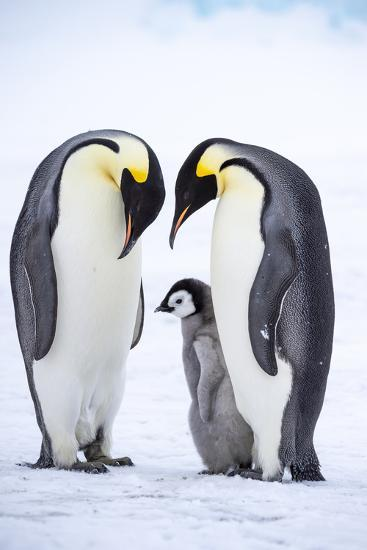emporer: (168, 102, 354, 504), (5, 107, 149, 484)
